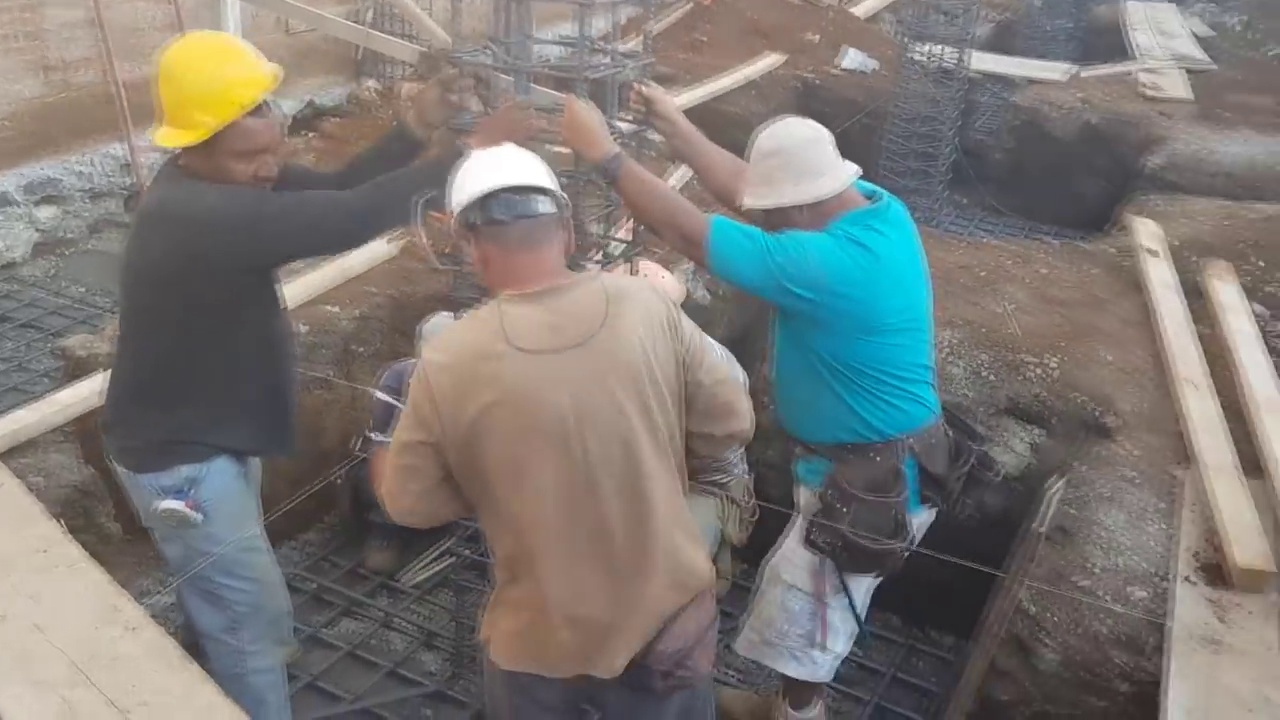helmet: (143, 26, 274, 140), (443, 133, 585, 236)
helmet-off: (735, 106, 876, 251)
helmet-on: (142, 21, 289, 201), (442, 135, 586, 303)
person: (100, 21, 535, 720), (560, 84, 952, 720), (380, 129, 751, 713)
